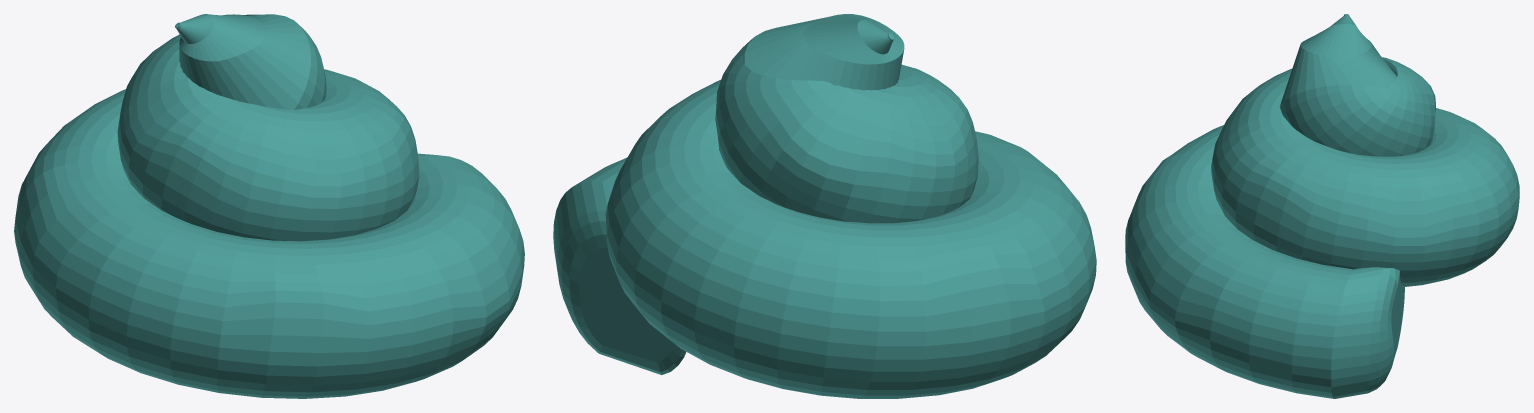
Rendered from monster_gel.glb.
3 renders of one model, left to right at view 1: azimuth 30°, elevation 25°; view 2: azimuth 150°, elevation 25°; view 3: azimuth 270°, elevation 25°, orthographic. The views are drawn at different scales.
Parts seen in each view (by area): view 1: Cube; view 2: Cube; view 3: Cube.
Part boxes in pixels (x1=…): Cube: x1=14, y1=14, x2=524, y2=398; Cube: x1=553, y1=14, x2=1096, y2=398; Cube: x1=1125, y1=14, x2=1519, y2=398.
Bounding box in the file's own units: 1.24 × 0.8874 × 1.12.
